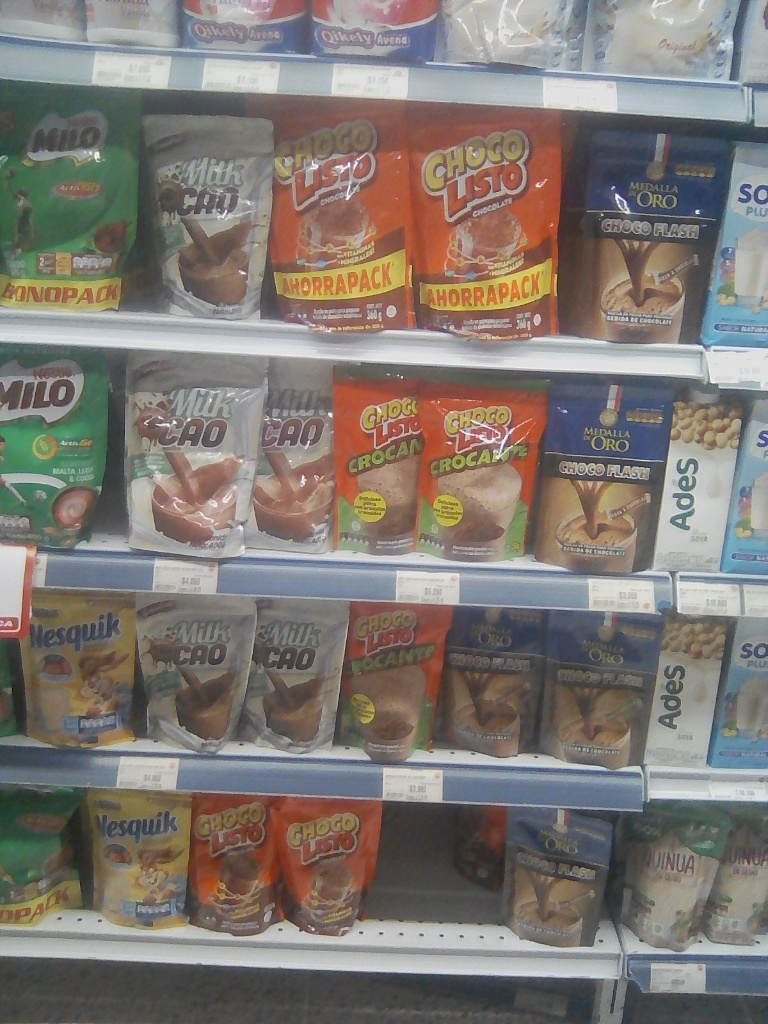COL0170102DYP25000: (329, 366, 419, 556)
COL0170103DYP20000: (193, 793, 278, 937)
COL0170103DYP36000: (250, 97, 414, 333)
COL0170203DYP25000: (1, 352, 112, 549)
COL0170203DYP50000: (0, 79, 146, 311)
COL0170306DYP20000: (83, 788, 195, 931)
